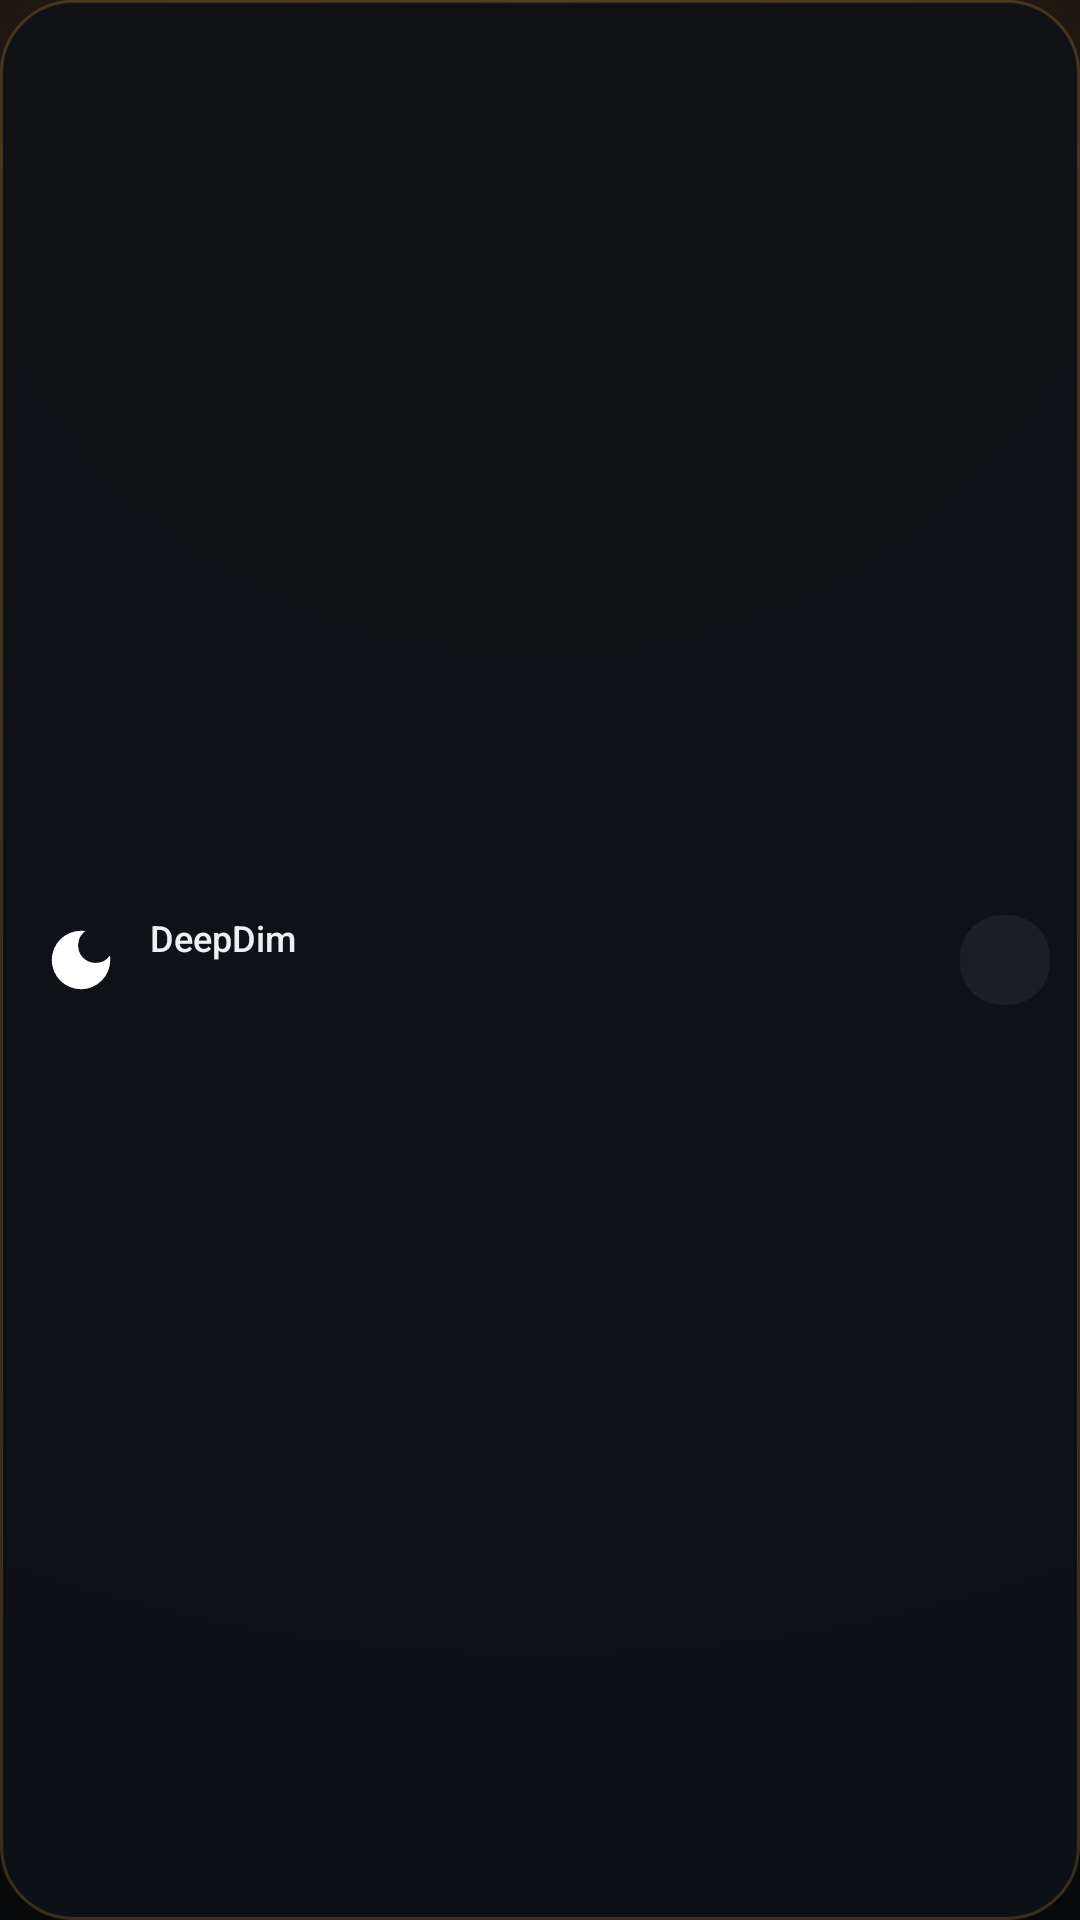

Point at icon controls on the screen. Image size 1080 x 1920, points as [x,y].
moon: [81,960]
